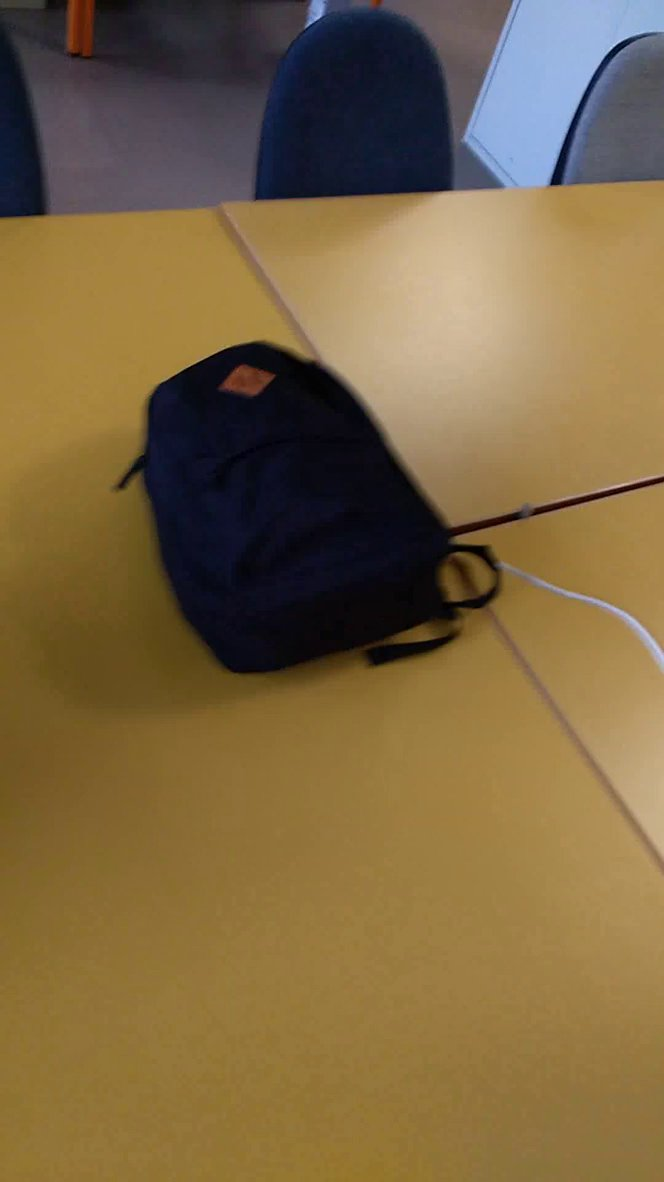bag: (104, 335, 515, 681)
chair: (248, 1, 470, 211)
